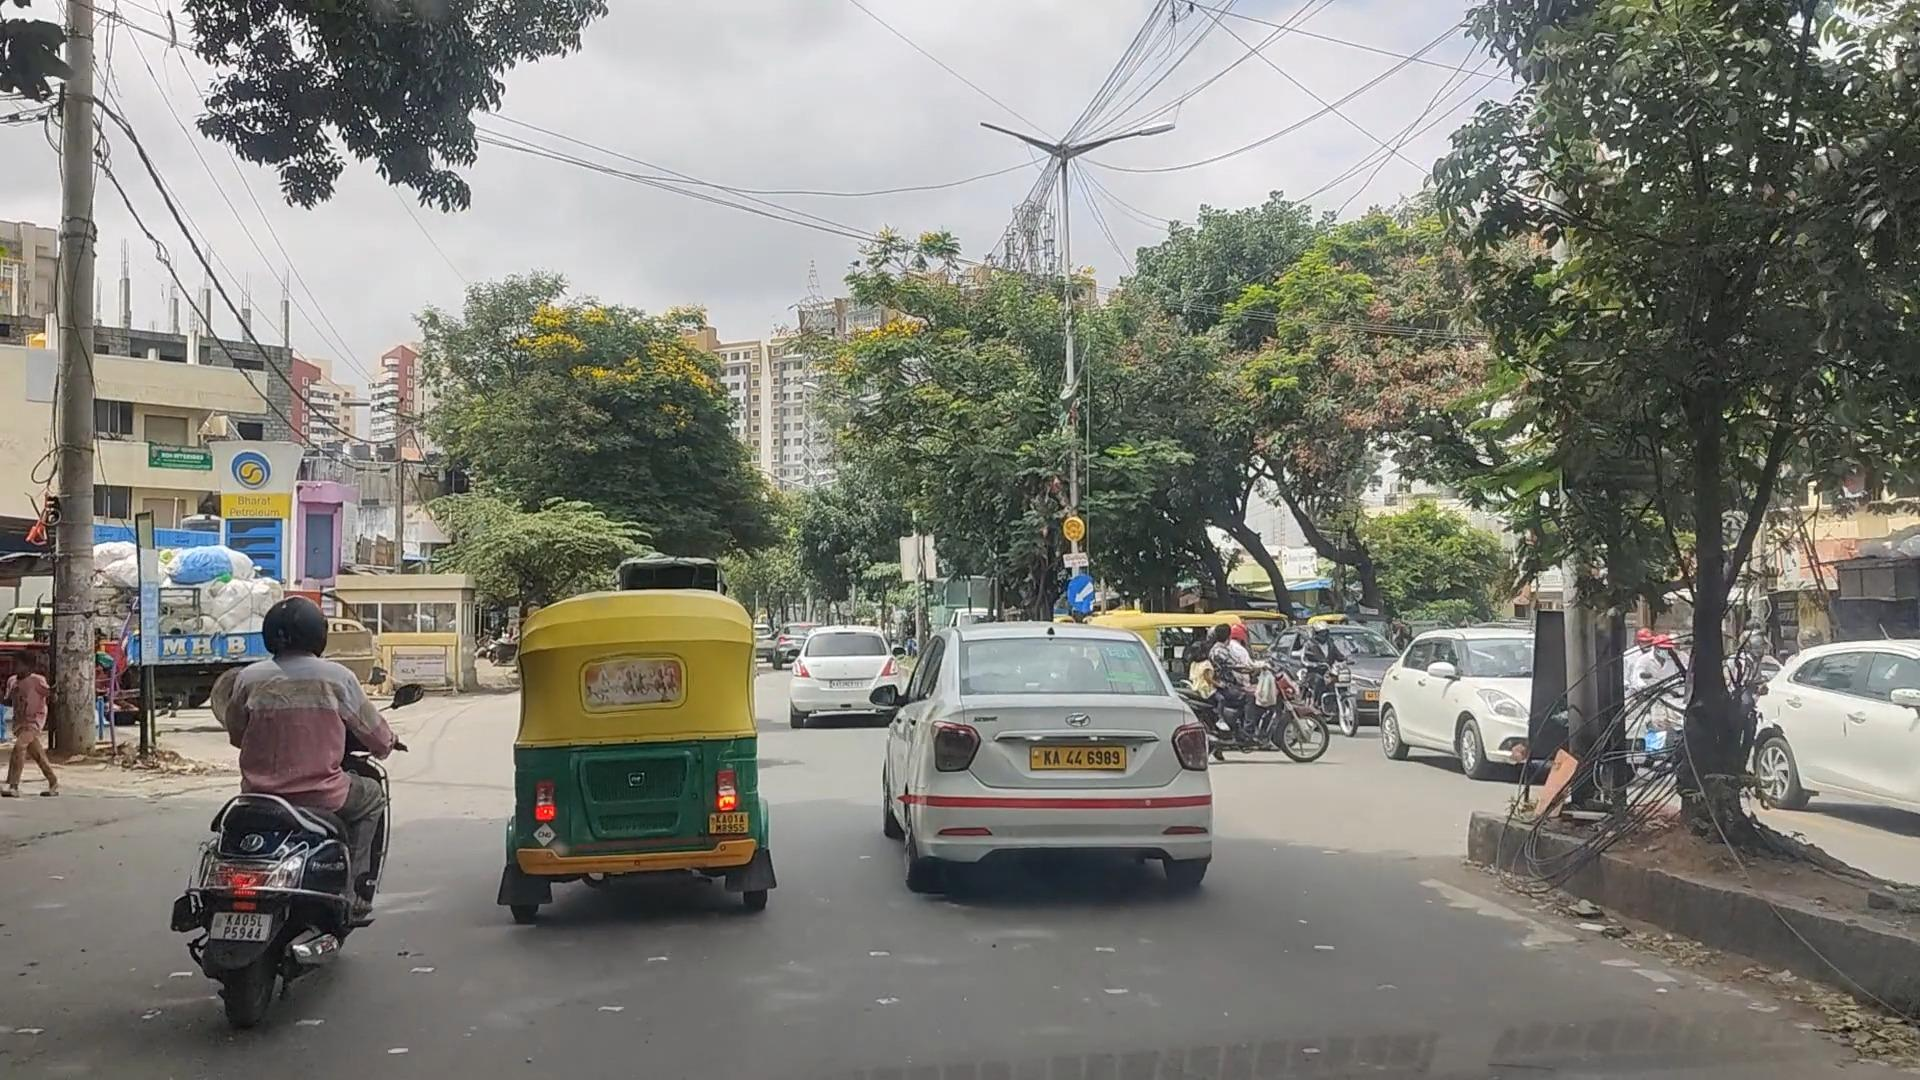LMV: (901, 633, 1220, 923), (517, 608, 773, 919), (208, 615, 382, 1018)
